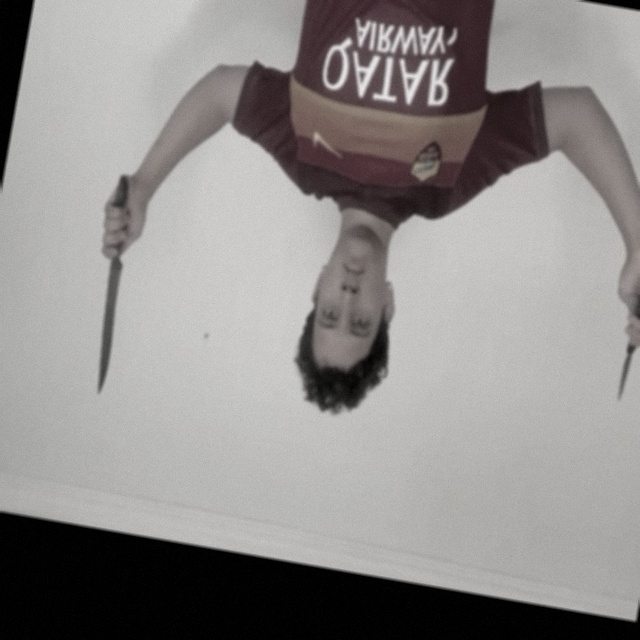Sharp-Object: (88, 257, 127, 398), (615, 351, 635, 403)
